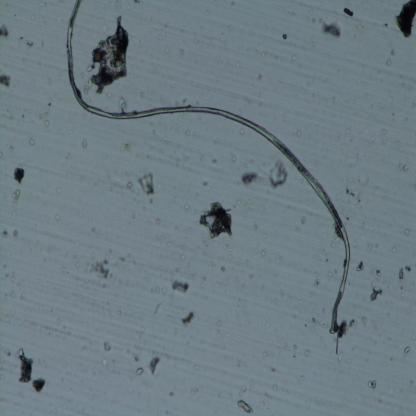Background material: (82, 13, 131, 96), (199, 198, 233, 240), (341, 180, 365, 218), (334, 318, 356, 357), (394, 1, 416, 40), (14, 347, 32, 384), (38, 92, 56, 128), (268, 160, 290, 188), (86, 258, 112, 280), (137, 170, 156, 195), (322, 19, 344, 40), (309, 312, 328, 333), (171, 279, 191, 297), (240, 170, 259, 188), (367, 263, 381, 286), (148, 354, 162, 376), (236, 398, 255, 414), (10, 165, 26, 184), (397, 264, 412, 284), (121, 138, 140, 152), (178, 310, 194, 326), (370, 286, 386, 302), (116, 90, 127, 112), (20, 35, 36, 50), (31, 377, 46, 393), (122, 178, 138, 192), (43, 69, 55, 87), (174, 253, 186, 270), (291, 128, 302, 146), (392, 161, 408, 173), (211, 315, 223, 331), (366, 239, 379, 253), (0, 74, 12, 88), (353, 260, 365, 274), (151, 302, 163, 316), (0, 23, 10, 39), (2, 288, 15, 300), (342, 7, 355, 19), (130, 351, 142, 364), (101, 340, 112, 354), (385, 48, 393, 66), (366, 377, 377, 390), (10, 191, 21, 204), (154, 284, 167, 295), (50, 210, 60, 224), (164, 390, 176, 401), (4, 273, 16, 283), (28, 135, 37, 148), (80, 136, 88, 150), (162, 235, 172, 246), (38, 0, 50, 9), (0, 228, 9, 240), (55, 184, 64, 196), (402, 345, 412, 355), (361, 314, 368, 328), (135, 367, 144, 377), (189, 388, 199, 396), (183, 128, 191, 138), (298, 374, 308, 382), (301, 213, 307, 225), (390, 245, 398, 254), (269, 366, 278, 374), (200, 178, 209, 186), (221, 266, 227, 277), (210, 157, 218, 165), (12, 229, 19, 238), (338, 352, 344, 362), (381, 129, 388, 137), (282, 32, 288, 41), (183, 201, 188, 211), (314, 280, 322, 286), (230, 154, 236, 162), (260, 350, 266, 358), (155, 216, 160, 225), (404, 228, 410, 235), (117, 309, 123, 315), (292, 343, 298, 349), (305, 349, 310, 356)
Microfibre: (64, 1, 352, 335)
